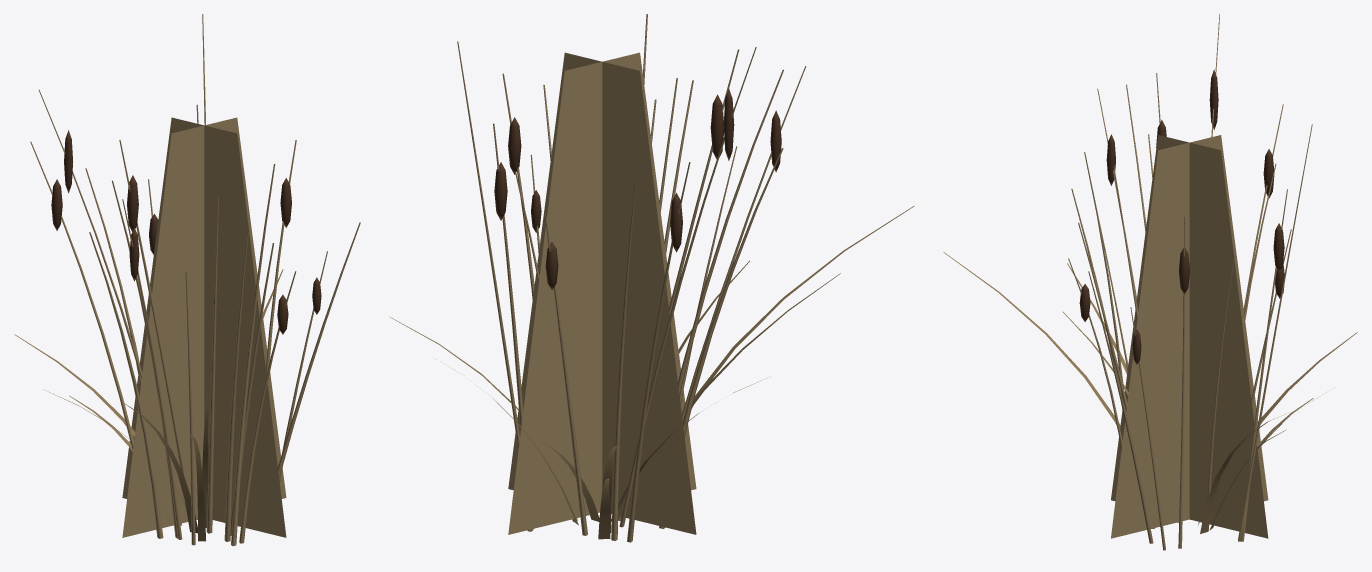
Rendered from reed_clump_3.glb.
3 renders of one model, left to right at view 1: azimuth 30°, elevation 25°; view 2: azimuth 150°, elevation 25°; view 3: azimuth 270°, elevation 25°, orthographic. The views are drawn at different scales.
Visible parts, largest first — view 1: ReedClump_Far, ReedClump_Stalks_0, ReedClump_Stalks_2, ReedClump_Stalks_1, ReedClump_Blades_2, ReedClump_Heads_0, ReedClump_Heads_1, ReedClump_Blades_1, ReedClump_Heads_2, ReedClump_Blades_0; view 2: ReedClump_Far, ReedClump_Stalks_1, ReedClump_Stalks_2, ReedClump_Stalks_0, ReedClump_Heads_2, ReedClump_Blades_2, ReedClump_Heads_1, ReedClump_Heads_0, ReedClump_Blades_0, ReedClump_Blades_1; view 3: ReedClump_Far, ReedClump_Stalks_1, ReedClump_Stalks_2, ReedClump_Stalks_0, ReedClump_Heads_2, ReedClump_Heads_1, ReedClump_Blades_2, ReedClump_Heads_0, ReedClump_Blades_1, ReedClump_Blades_0.
Boxes of the visible parts, x1,y1,x2,y2 form: ReedClump_Far: (122, 117, 286, 537); ReedClump_Stalks_0: (38, 90, 296, 546); ReedClump_Stalks_2: (89, 104, 360, 541); ReedClump_Stalks_1: (30, 14, 327, 545); ReedClump_Blades_2: (124, 403, 205, 541); ReedClump_Heads_0: (64, 130, 288, 334); ReedClump_Heads_1: (51, 179, 321, 314); ReedClump_Blades_1: (45, 269, 283, 527); ReedClump_Heads_2: (149, 178, 291, 254); ReedClump_Blades_0: (14, 334, 135, 451); ReedClump_Far: (508, 52, 696, 534); ReedClump_Stalks_1: (457, 41, 806, 542); ReedClump_Stalks_2: (493, 73, 783, 535); ReedClump_Stalks_0: (618, 14, 783, 527); ReedClump_Heads_2: (494, 117, 558, 289); ReedClump_Blades_2: (534, 206, 914, 521); ReedClump_Heads_1: (531, 110, 781, 252); ReedClump_Heads_0: (710, 88, 734, 160); ReedClump_Blades_0: (436, 359, 619, 539); ReedClump_Blades_1: (389, 260, 770, 521); ReedClump_Far: (1111, 135, 1268, 538); ReedClump_Stalks_1: (1097, 88, 1312, 550); ReedClump_Stalks_2: (1071, 134, 1291, 548); ReedClump_Stalks_0: (1068, 14, 1219, 528); ReedClump_Heads_2: (1179, 223, 1284, 298); ReedClump_Heads_1: (1106, 134, 1274, 364); ReedClump_Blades_2: (943, 252, 1286, 525); ReedClump_Heads_0: (1079, 69, 1218, 321); ReedClump_Blades_1: (1062, 311, 1285, 533); ReedClump_Blades_0: (1209, 332, 1357, 530).
Size of what is drawn, in the model's own units: 1.23 by 1.87 by 1.59.
